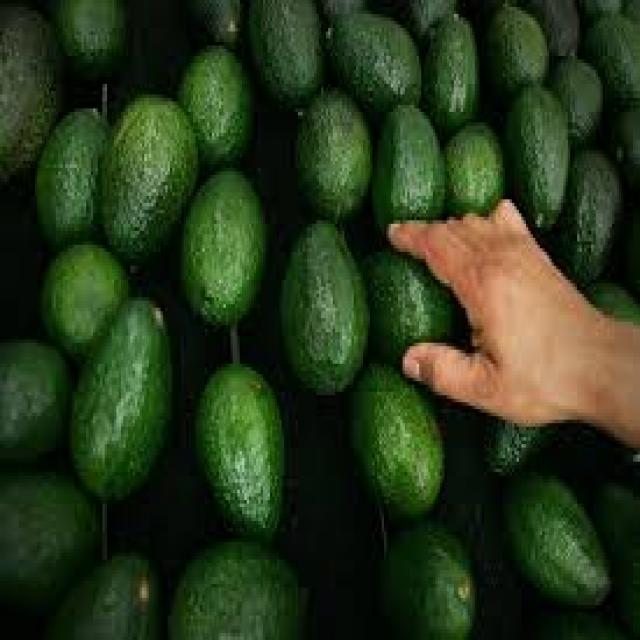avocado: (191, 320, 302, 538), (78, 288, 184, 504), (498, 458, 640, 609), (0, 447, 100, 640), (275, 212, 383, 386), (373, 509, 513, 640), (330, 358, 444, 512), (100, 95, 193, 262), (173, 175, 283, 316), (0, 312, 82, 489), (0, 0, 71, 201), (41, 539, 178, 640), (169, 35, 260, 179), (186, 544, 316, 640), (508, 81, 584, 245), (38, 85, 122, 222), (245, 0, 336, 119), (379, 89, 448, 241), (330, 7, 430, 111), (32, 236, 127, 345), (290, 67, 368, 197), (438, 92, 510, 220), (431, 15, 493, 130), (586, 0, 639, 108), (496, 0, 566, 76), (54, 0, 135, 63)
